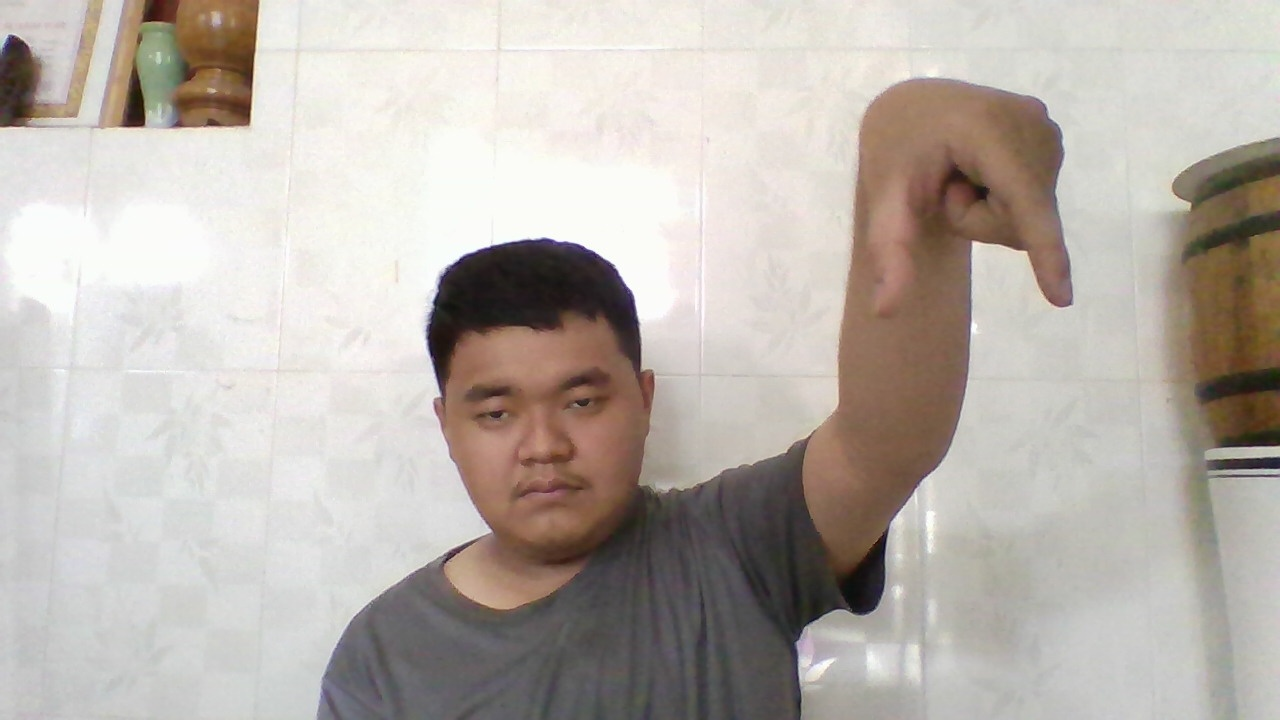Q: (861, 77, 1086, 310)
